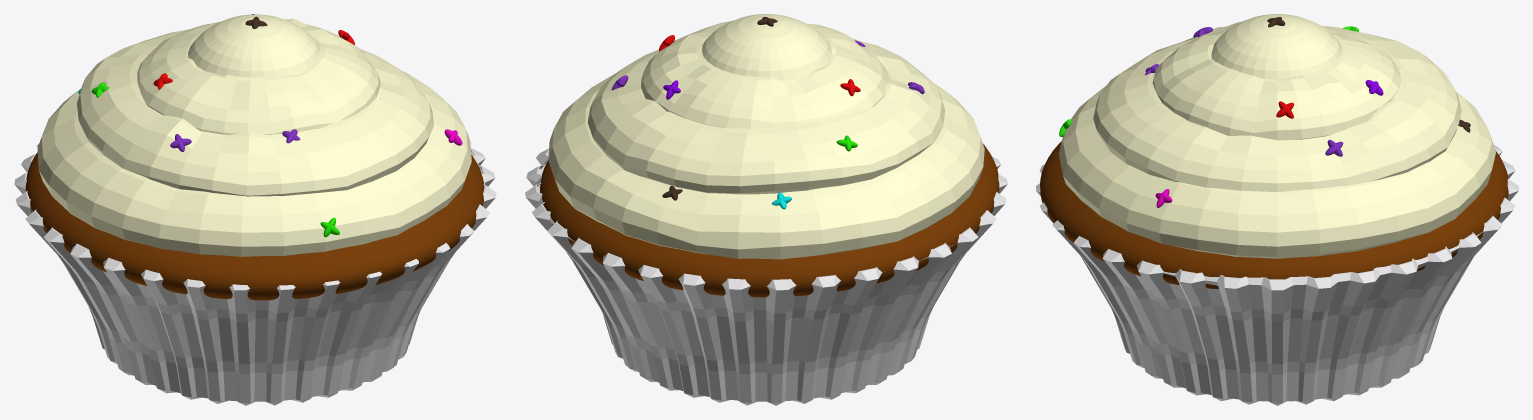
File: DigitechCupcakeMaxSong.glb
3 renders of one model, left to right at view 1: azimuth 30°, elevation 25°; view 2: azimuth 150°, elevation 25°; view 3: azimuth 270°, elevation 25°, orthographic.
Visible parts, largest first — view 1: Cup, Sphere.001, Sphere.003, Cake, Sphere.004, Sphere.005; view 2: Cup, Sphere.001, Sphere.003, Cake, Sphere.004, Sphere.005; view 3: Cup, Sphere.001, Sphere.003, Sphere.004, Cake, Sphere.005.
Boxes of the visible parts, x1,y1,x2,y2 form: Cup: [14, 143, 496, 405]; Sphere.001: [37, 71, 471, 256]; Sphere.003: [77, 29, 433, 196]; Cake: [25, 152, 484, 300]; Sphere.004: [137, 19, 380, 134]; Sphere.005: [188, 14, 319, 77]; Cup: [525, 143, 1007, 405]; Sphere.001: [548, 74, 984, 259]; Sphere.003: [587, 38, 945, 194]; Cake: [540, 144, 999, 297]; Sphere.004: [641, 20, 890, 128]; Sphere.005: [702, 14, 831, 80]; Cup: [1036, 145, 1518, 405]; Sphere.001: [1059, 85, 1495, 258]; Sphere.003: [1093, 26, 1461, 192]; Sphere.004: [1152, 22, 1400, 140]; Cake: [1040, 141, 1508, 288]; Sphere.005: [1211, 14, 1342, 79].
Bounding box in the file's own units: 2.67 × 1.98 × 2.67.
